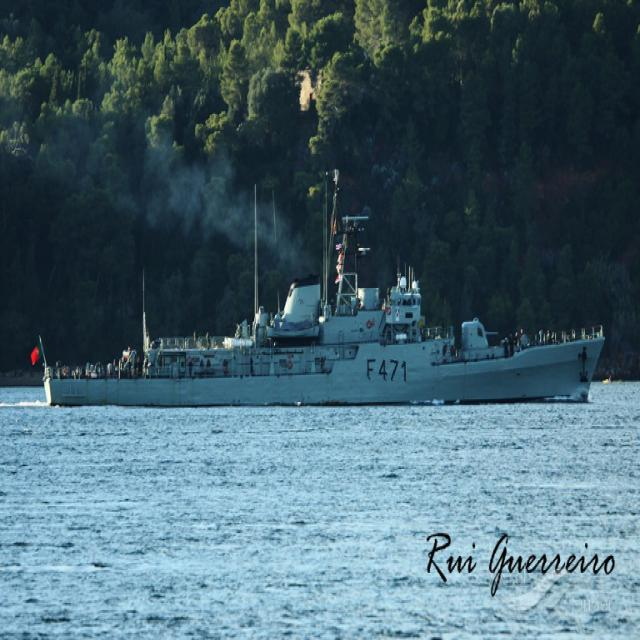OCR: (363, 347, 407, 393)
